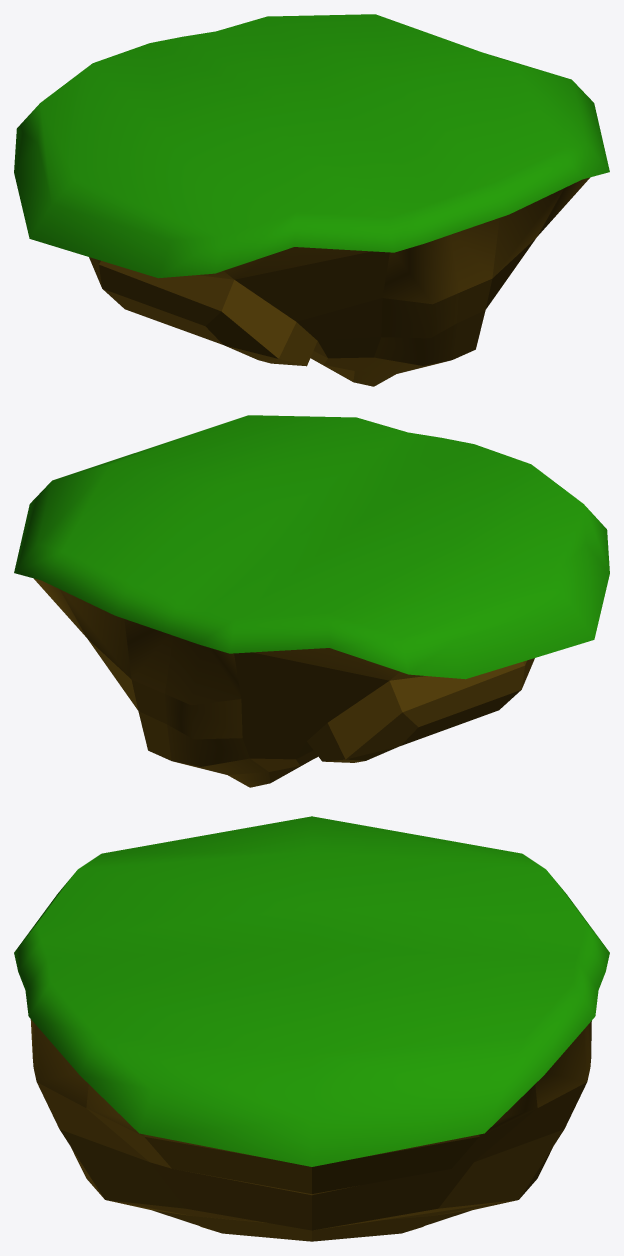
File: Mushroom_Platform_FBX.fbx
3 renders of one model, top to bottom at view 1: azimuth 30°, elevation 25°; view 2: azimuth 150°, elevation 25°; view 3: azimuth 270°, elevation 25°, orthographic. The views are drawn at different scales.
Visible parts, largest first — view 1: Earth1; view 2: Earth1; view 3: Earth1.
Boxes of the visible parts, box(x1,y1,x2,y2) form: Earth1: box(14, 14, 609, 386); Earth1: box(14, 415, 609, 787); Earth1: box(14, 816, 609, 1241).
Bounding box in the file's own units: 5.6 × 2.41 × 4.44.
